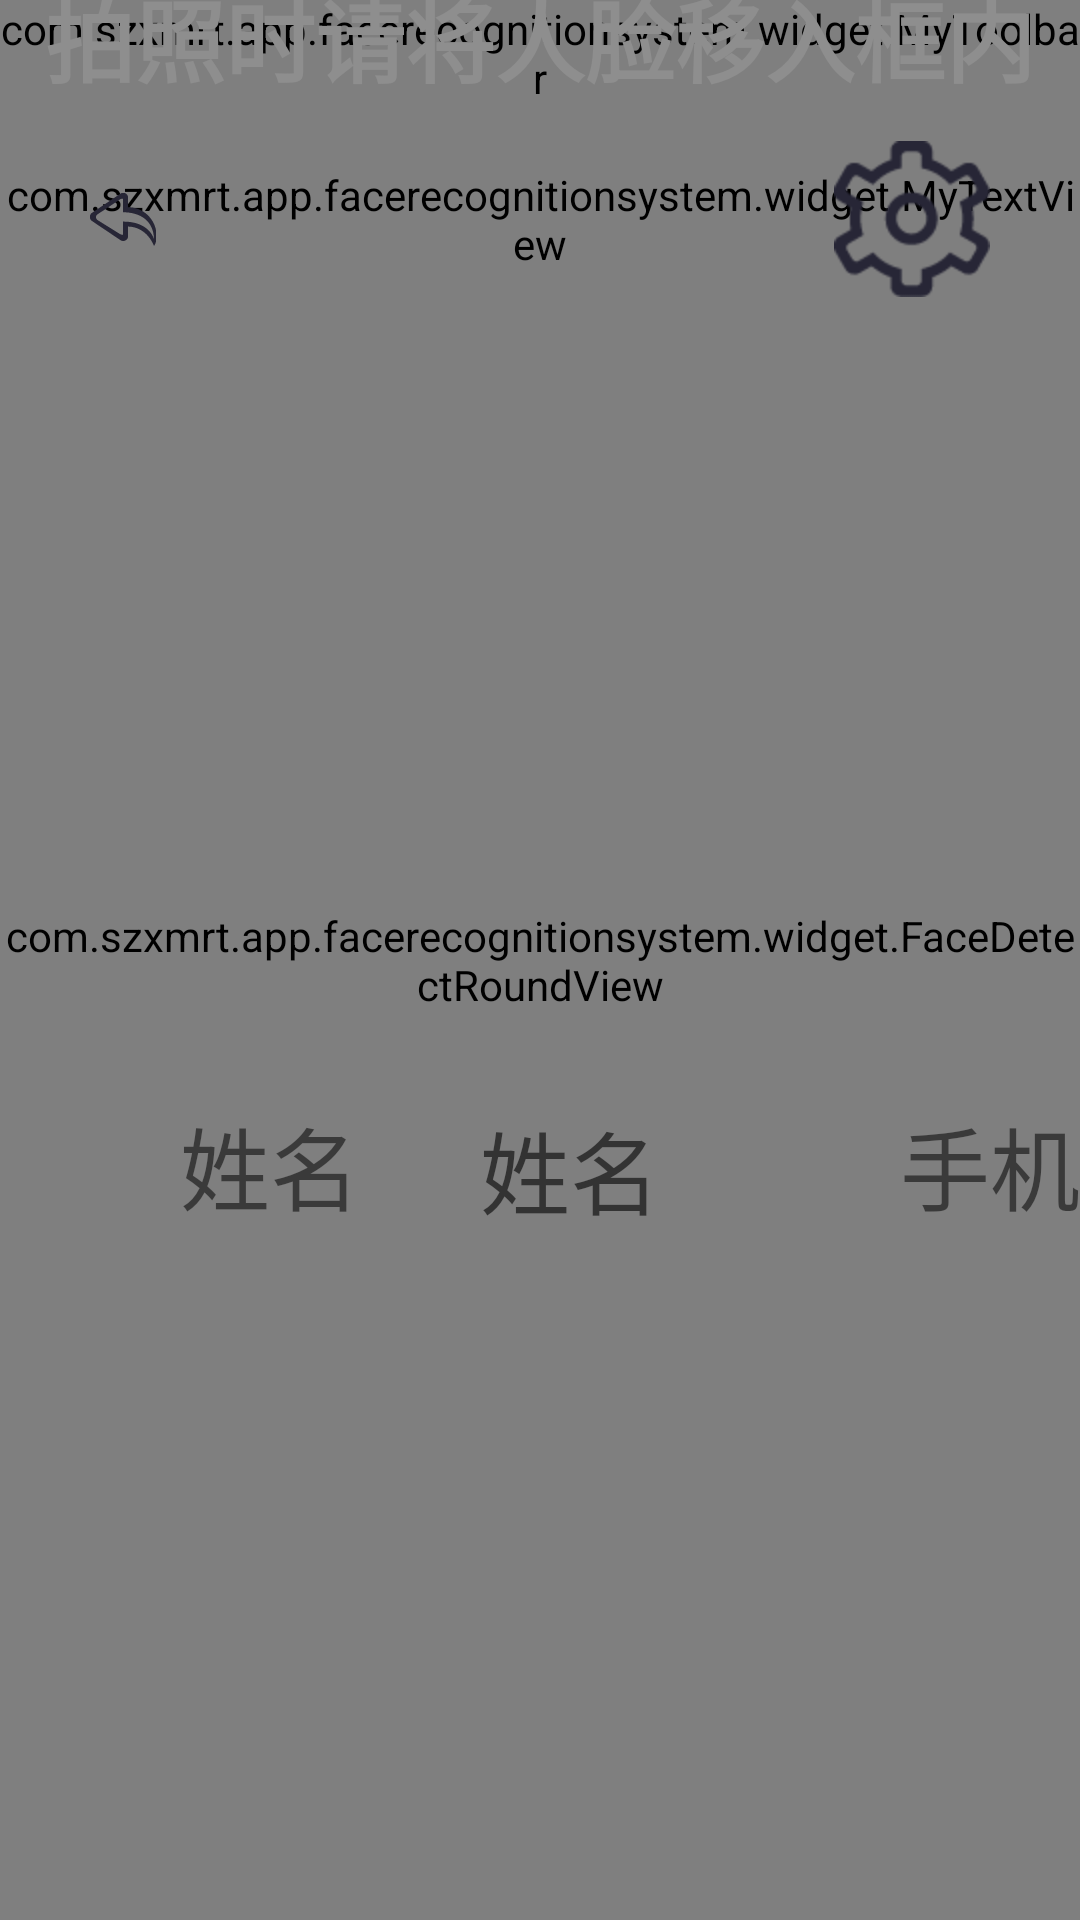

Icon click points for this 1080×1920 phone screenshot, format [x,y]:
back: [123,219]
setting: [912,219]
